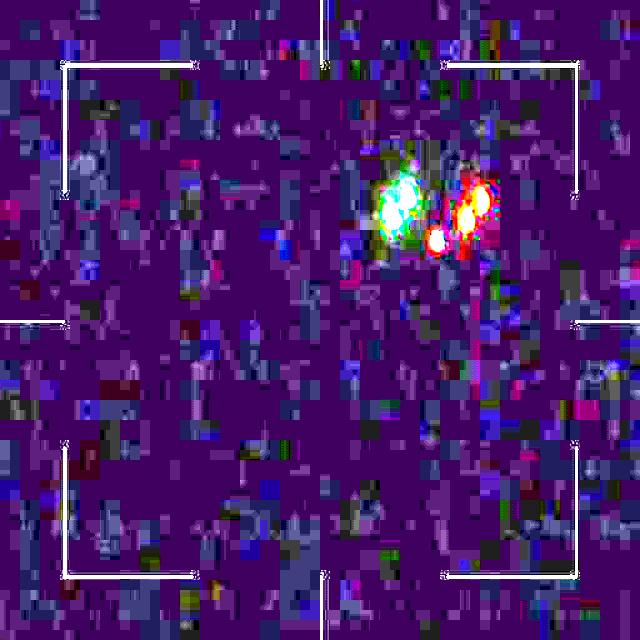bird: (382, 180, 491, 254)
